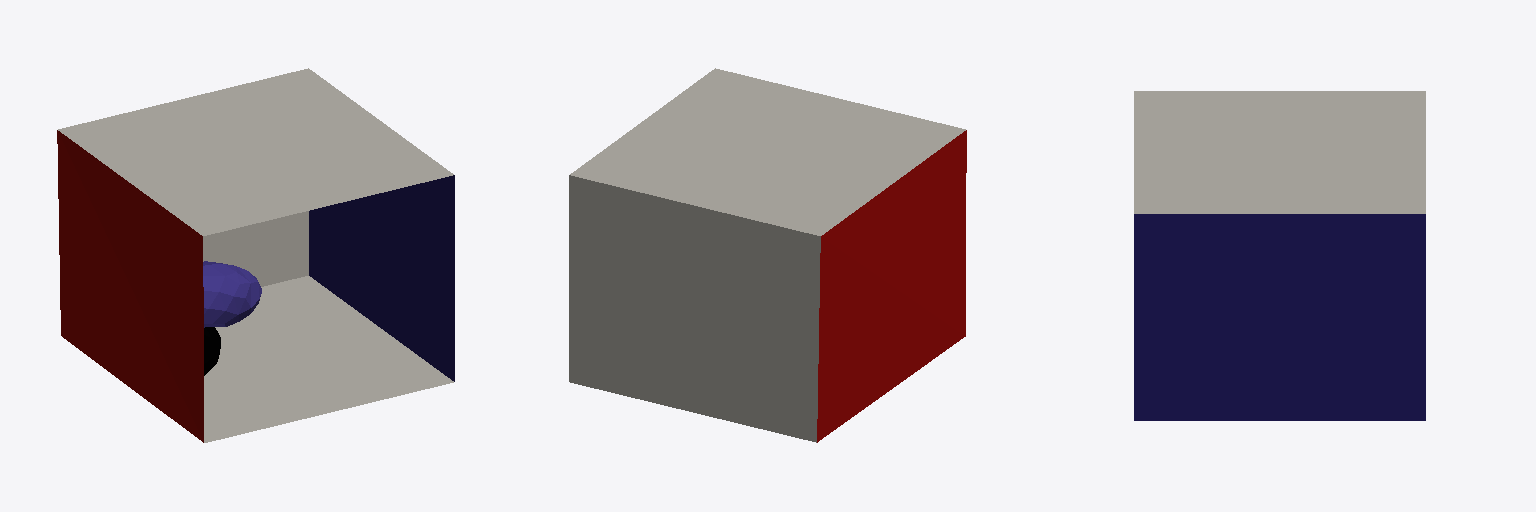
The model's file is CornellBox-Ellipsoid-133.obj.
The picture shows the model from 3 angles: view 1: azimuth 30°, elevation 25°; view 2: azimuth 150°, elevation 25°; view 3: azimuth 270°, elevation 25°; orthographic projection.
Visible parts, largest first — view 1: ceiling, leftWall, floor, rightWall, backWall, leftSphere, rightSphere; view 2: backWall, ceiling, leftWall; view 3: rightWall, ceiling.
Part boxes in pixels (x1,y1,x2,y2): ceiling: (58,68,453,235); leftWall: (57,130,203,442); floor: (204,276,453,442); rightWall: (309,175,454,381); backWall: (203,211,308,286); leftSphere: (203,261,261,327); rightSphere: (204,327,220,375); backWall: (569,175,820,442); ceiling: (570,68,965,235); leftWall: (817,130,966,442); rightWall: (1134,214,1425,420); ceiling: (1134,91,1425,213).
Bounding box in the file's own units: 2.02 × 1.59 × 2.03.